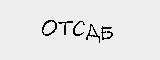Б: (99, 23, 115, 44)
Д: (85, 24, 103, 44)
О: (41, 16, 56, 39)
С: (72, 20, 88, 38)
Т: (58, 19, 72, 37)
